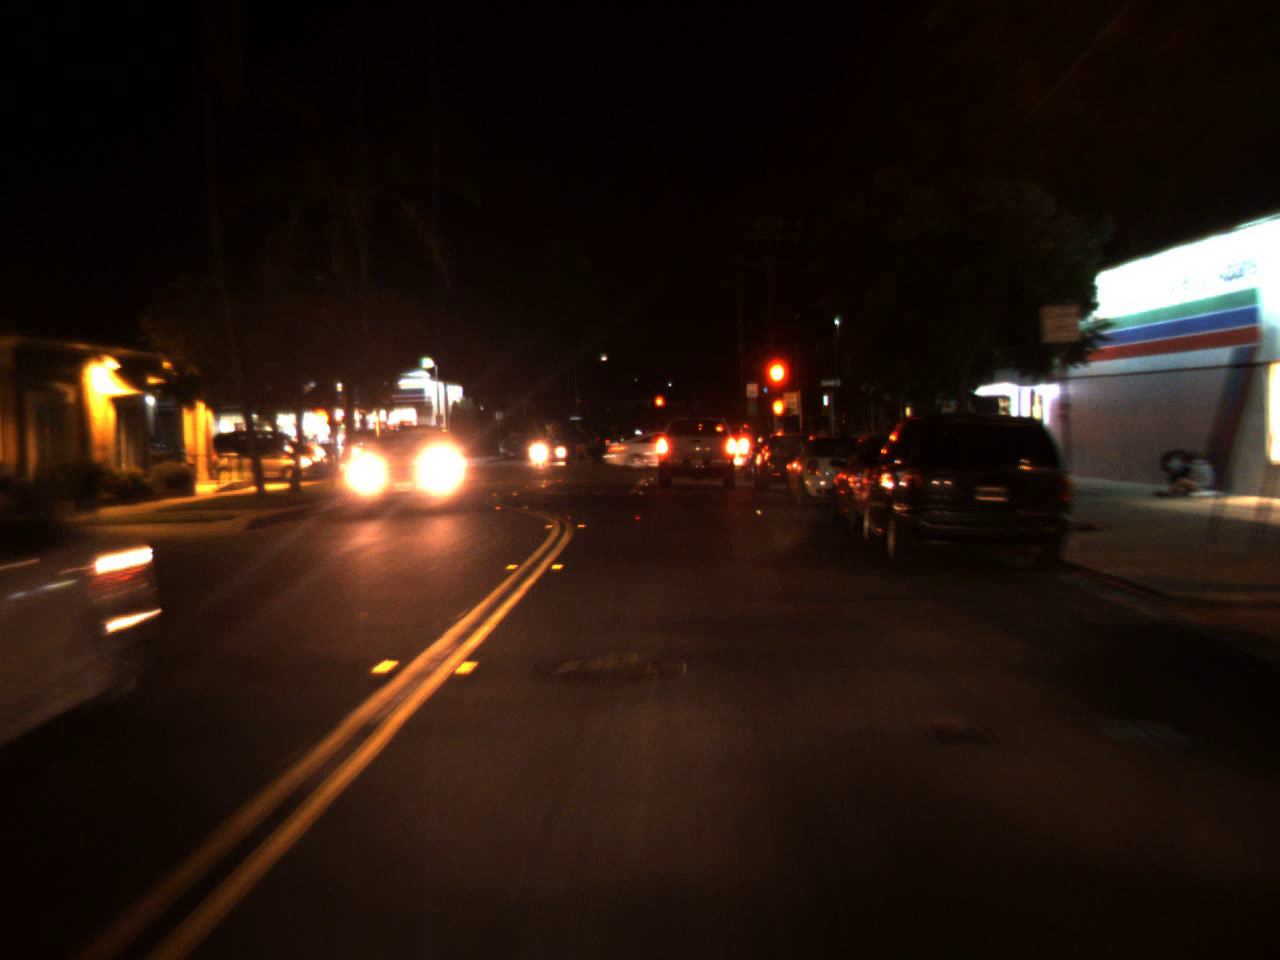stop: (760, 352, 793, 424), (654, 393, 666, 420)
